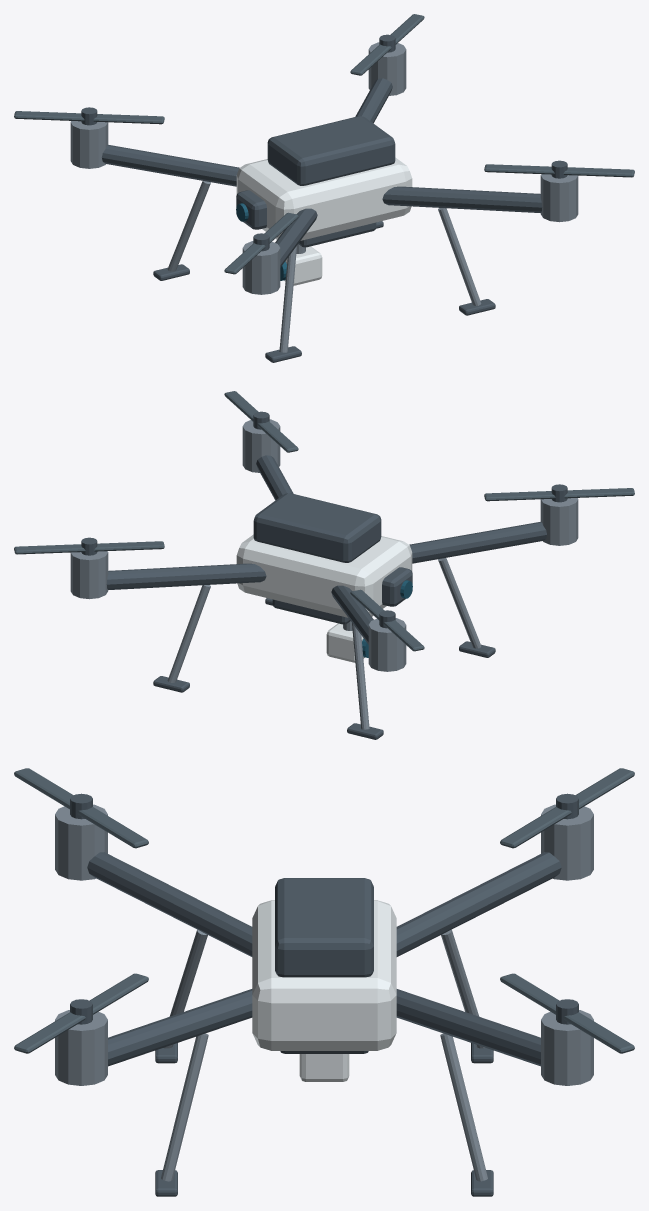
File: quadcopter.glb
The picture shows the model from 3 angles, top to bottom: view 1: azimuth 30°, elevation 25°; view 2: azimuth 150°, elevation 25°; view 3: azimuth 270°, elevation 25°; orthographic projection. The views are drawn at different scales.
Visible parts, largest first — view 1: Fuselage, Battery, Arm +0.32,-0.32, Arm -0.32,+0.32, Motor +0.32,-0.32, Motor -0.32,+0.32, Motor -0.32,-0.32, Motor +0.32,+0.32, Propeller +0.32,-0.32, Propeller -0.32,+0.32, Arm -0.32,-0.32, Landing strut +0.32,-0.32 (+8 smaller); view 2: Fuselage, Battery, Arm +0.32,+0.32, Arm -0.32,-0.32, Motor +0.32,+0.32, Motor -0.32,-0.32, Motor -0.32,+0.32, Motor +0.32,-0.32, Propeller +0.32,+0.32, Propeller -0.32,-0.32, Arm -0.32,+0.32, Landing strut +0.32,+0.32 (+8 smaller); view 3: Fuselage, Battery, Arm -0.32,-0.32, Arm -0.32,+0.32, Arm +0.32,-0.32, Arm +0.32,+0.32, Motor +0.32,-0.32, Motor +0.32,+0.32, Motor -0.32,-0.32, Motor -0.32,+0.32, Propeller -0.32,-0.32, Propeller -0.32,+0.32 (+7 smaller).
Boxes of the visible parts, left/top/right/bottom form: Fuselage: left=236, top=157, right=412, bottom=240; Battery: left=267, top=116, right=395, bottom=185; Arm +0.32,-0.32: left=382, top=186, right=542, bottom=212; Arm -0.32,+0.32: left=102, top=144, right=239, bottom=186; Motor +0.32,-0.32: left=540, top=174, right=578, bottom=222; Motor -0.32,+0.32: left=70, top=121, right=108, bottom=168; Motor -0.32,-0.32: left=242, top=241, right=280, bottom=294; Motor +0.32,+0.32: left=368, top=42, right=406, bottom=95; Propeller +0.32,-0.32: left=484, top=164, right=634, bottom=177; Propeller -0.32,+0.32: left=14, top=111, right=164, bottom=124; Arm -0.32,-0.32: left=275, top=208, right=317, bottom=267; Landing strut +0.32,-0.32: left=438, top=208, right=481, bottom=305; Fuselage: left=236, top=534, right=412, bottom=617; Battery: left=253, top=493, right=381, bottom=562; Arm +0.32,+0.32: left=106, top=563, right=266, bottom=589; Arm -0.32,-0.32: left=409, top=521, right=546, bottom=563; Motor +0.32,+0.32: left=70, top=551, right=108, bottom=599; Motor -0.32,-0.32: left=540, top=498, right=578, bottom=545; Motor -0.32,+0.32: left=368, top=618, right=406, bottom=671; Motor +0.32,-0.32: left=242, top=419, right=280, bottom=472; Propeller +0.32,+0.32: left=14, top=541, right=164, bottom=554; Propeller -0.32,-0.32: left=484, top=488, right=634, bottom=501; Arm -0.32,+0.32: left=331, top=585, right=373, bottom=644; Landing strut +0.32,+0.32: left=167, top=585, right=210, bottom=682; Fuselage: left=252, top=900, right=396, bottom=1050; Battery: left=275, top=878, right=373, bottom=977; Arm -0.32,-0.32: left=87, top=852, right=252, bottom=956; Arm -0.32,+0.32: left=396, top=852, right=561, bottom=956; Arm +0.32,-0.32: left=108, top=989, right=252, bottom=1066; Arm +0.32,+0.32: left=396, top=989, right=540, bottom=1066; Motor +0.32,-0.32: left=55, top=1010, right=107, bottom=1085; Motor +0.32,+0.32: left=541, top=1010, right=593, bottom=1085; Motor -0.32,-0.32: left=55, top=804, right=107, bottom=880; Motor -0.32,+0.32: left=541, top=804, right=593, bottom=880; Propeller -0.32,-0.32: left=14, top=768, right=148, bottom=848; Propeller -0.32,+0.32: left=500, top=768, right=634, bottom=848.
Bounding box in the file's own units: 0.8804 × 0.319 × 0.8178.
